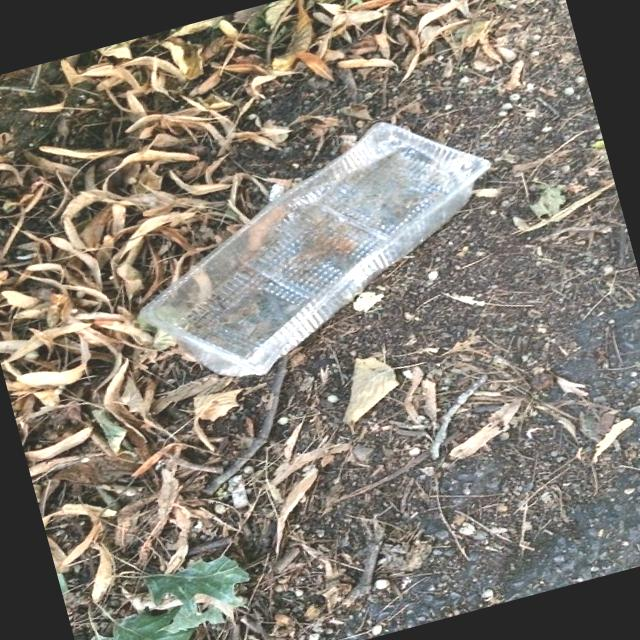Recycle: (104, 96, 534, 400)
